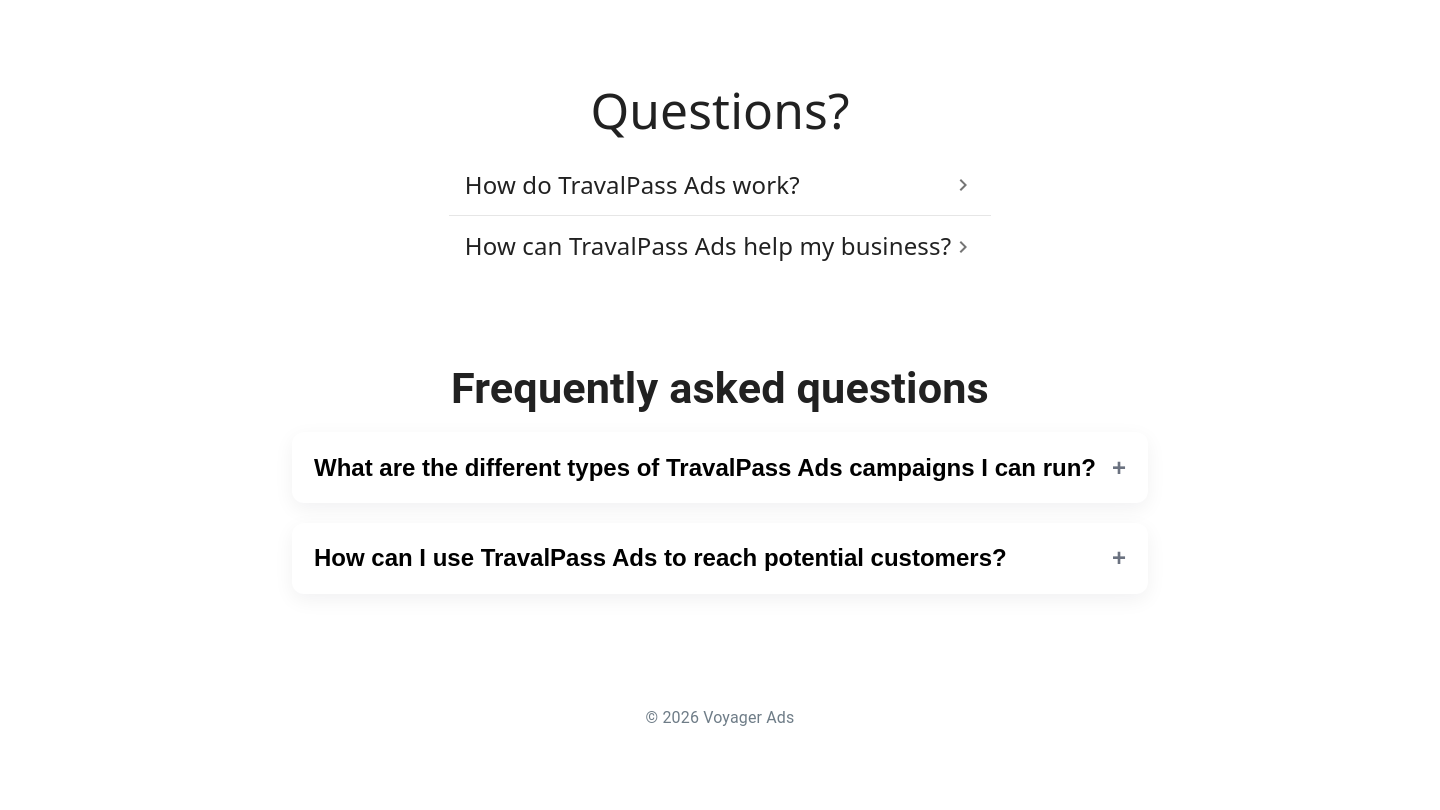
Landing page › FAQ closes item when clicked again (toggle)
(page scrolled)
Click the button "What are the different types" at (720, 468), box top-left (292, 432), bottom-right (1148, 503)
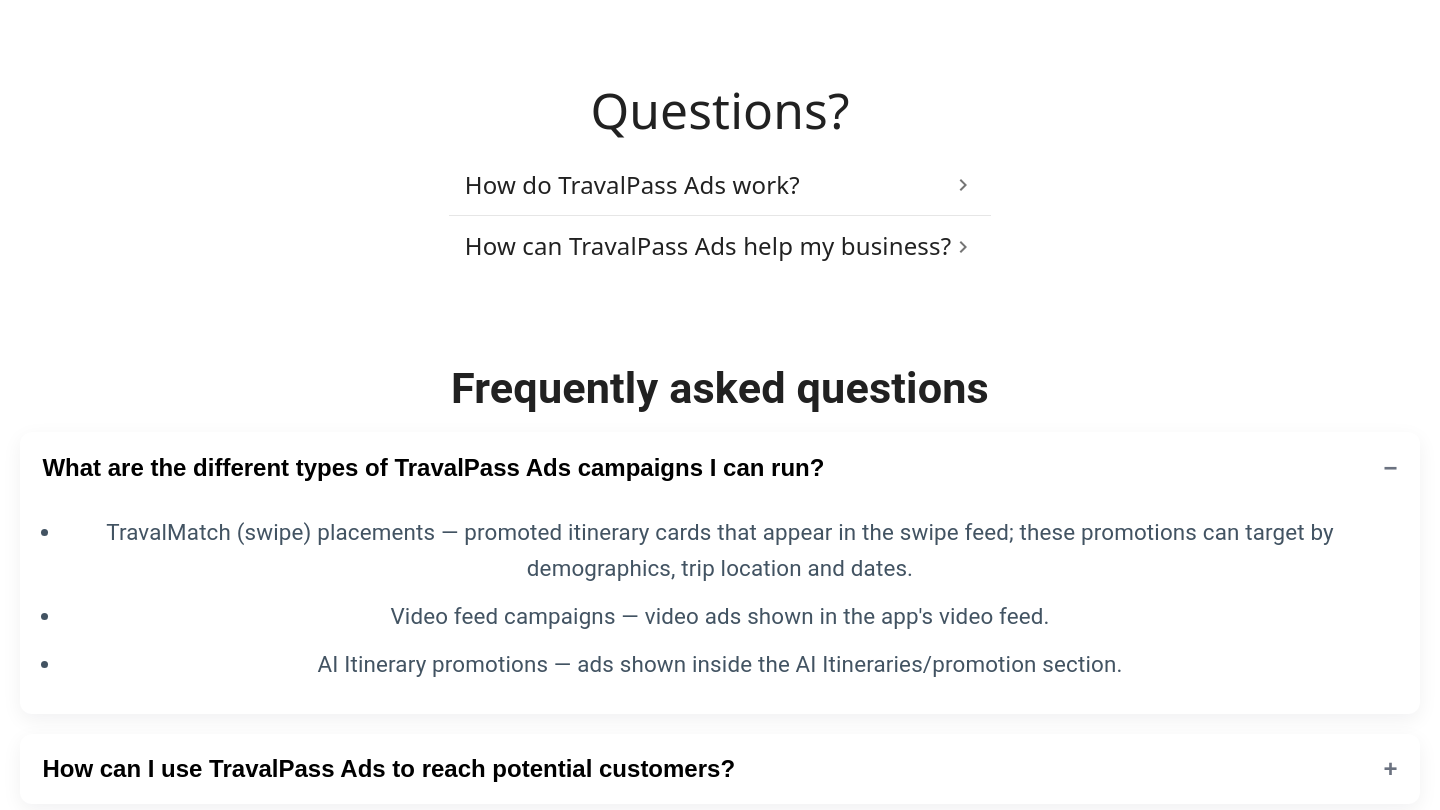
Click the button "What are the different types" at (720, 468), box top-left (20, 432), bottom-right (1420, 503)
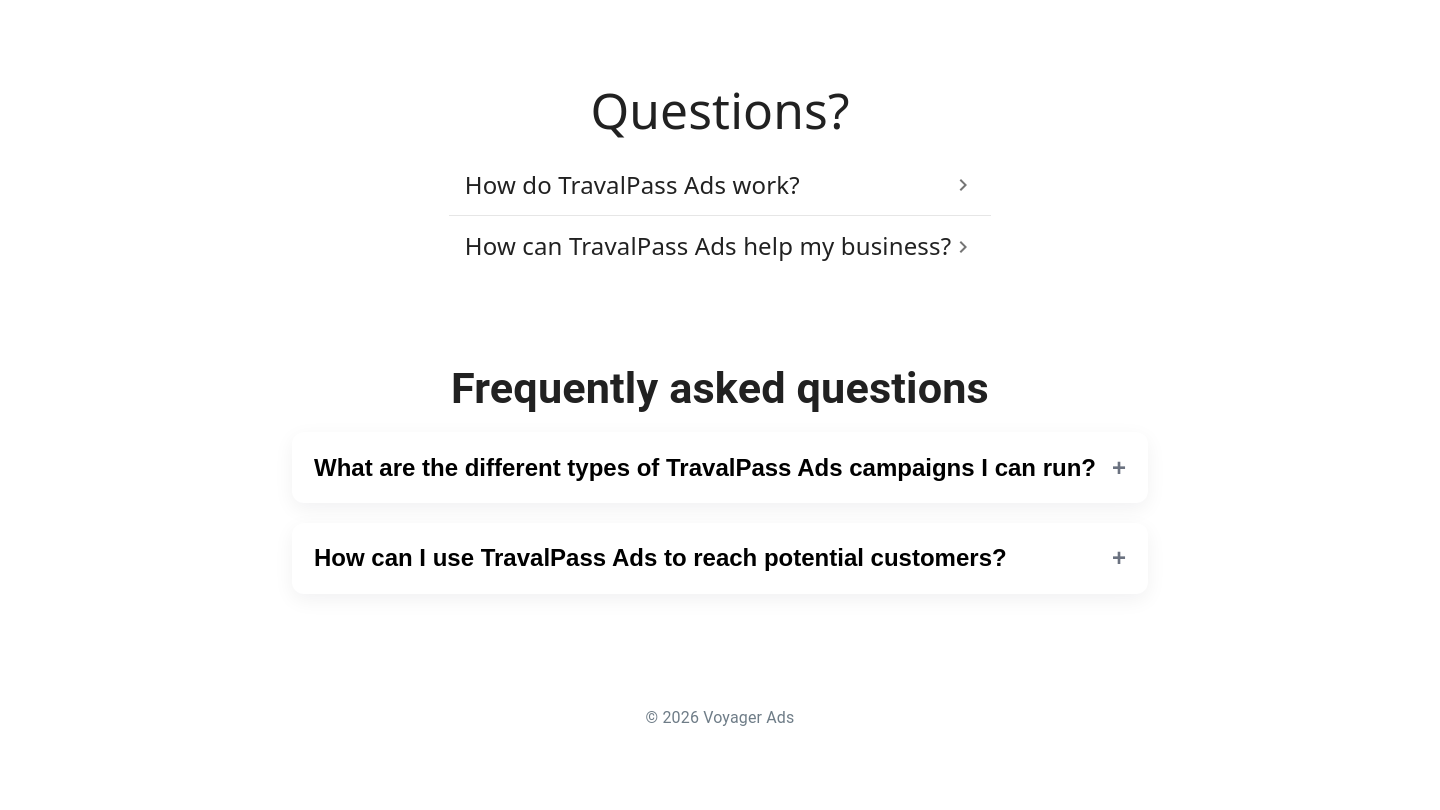
Expected: the button "What are the different types" is collapsed, top-left (292, 432), bottom-right (1148, 503)
